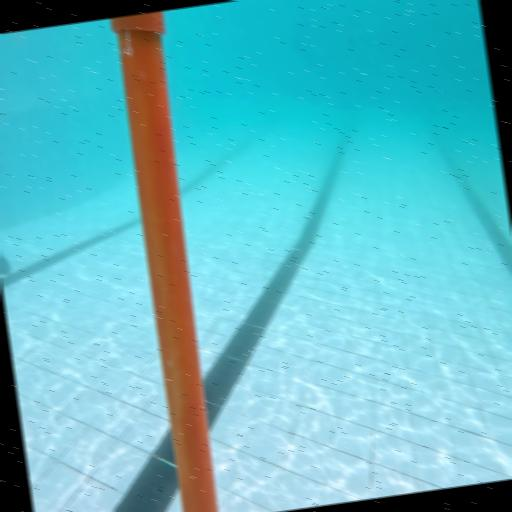pole_gate: (110, 11, 234, 512)
